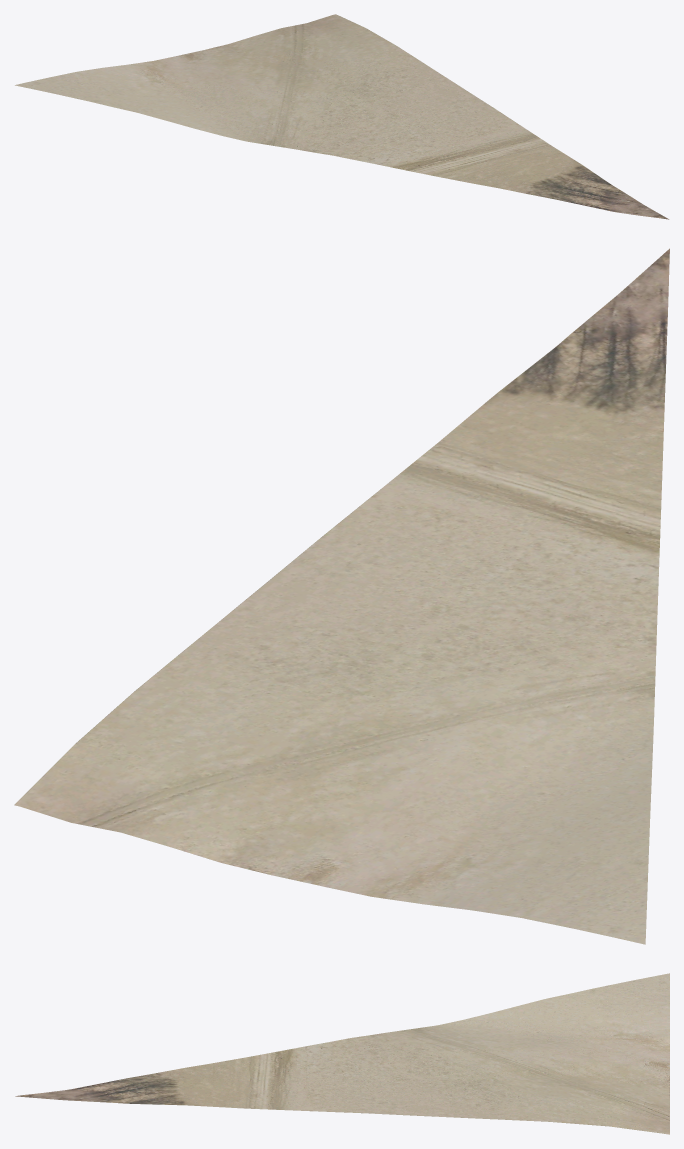
File: CM_Terrain_24489639_6817951.fbx
The picture shows the model from 3 angles, top to bottom: view 1: azimuth 30°, elevation 25°; view 2: azimuth 150°, elevation 25°; view 3: azimuth 270°, elevation 25°; orthographic projection. The views are drawn at different scales.
Visible parts, largest first — view 1: CM_Terrain_24489639_6817951_LOD0; view 2: CM_Terrain_24489639_6817951_LOD0; view 3: CM_Terrain_24489639_6817951_LOD0.
Boxes of the visible parts, x1=… form: CM_Terrain_24489639_6817951_LOD0: x1=15, y1=14, x2=669, y2=219; CM_Terrain_24489639_6817951_LOD0: x1=14, y1=248, x2=669, y2=944; CM_Terrain_24489639_6817951_LOD0: x1=15, y1=973, x2=669, y2=1134.
Size of what is drawn, in the model's own units: 90.32 by 11.47 by 162.
